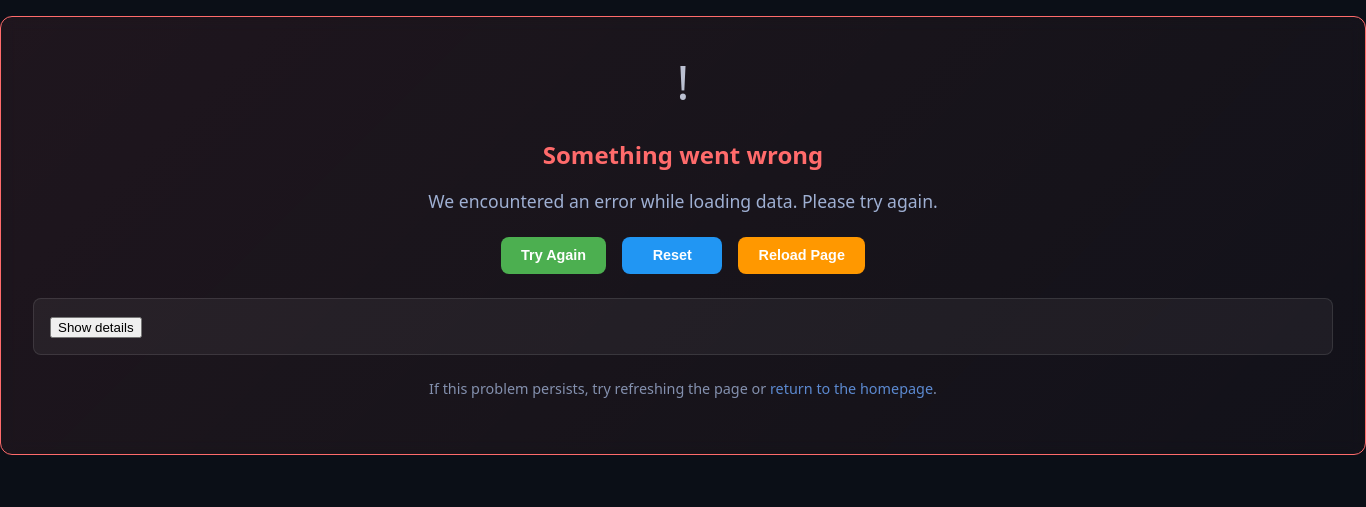
Test case: ApiErrorBoundary › should show error details when expanded
Click the button "Show details".
click(96, 327)  # box x1=50 y1=317 x2=142 y2=338
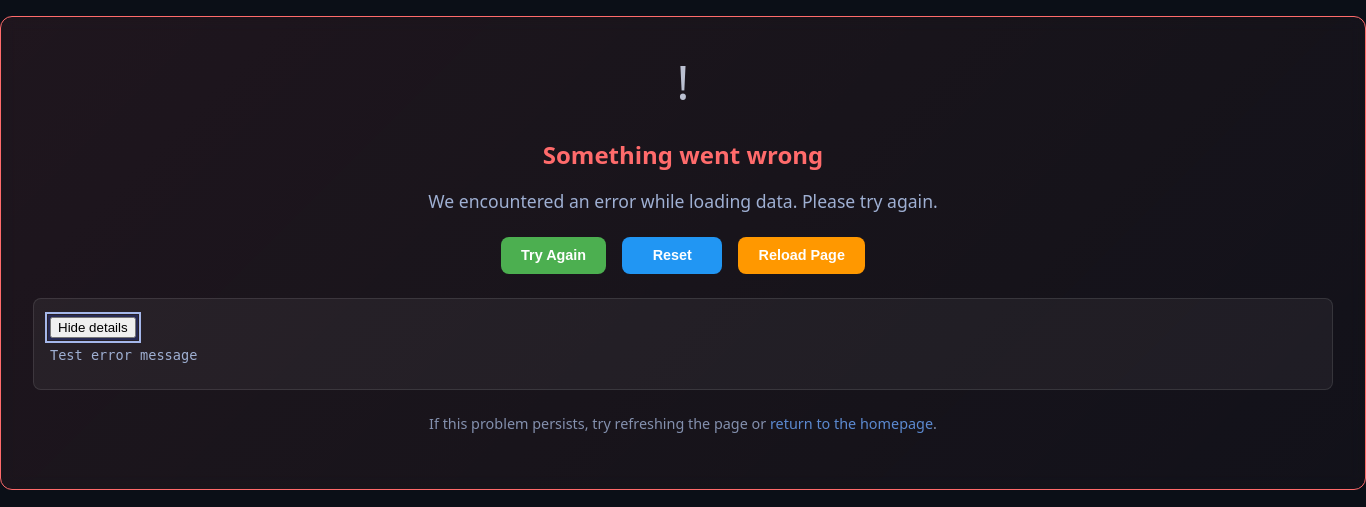
Result: the text "Test error message" is shown at x1=50 y1=347 x2=197 y2=363
